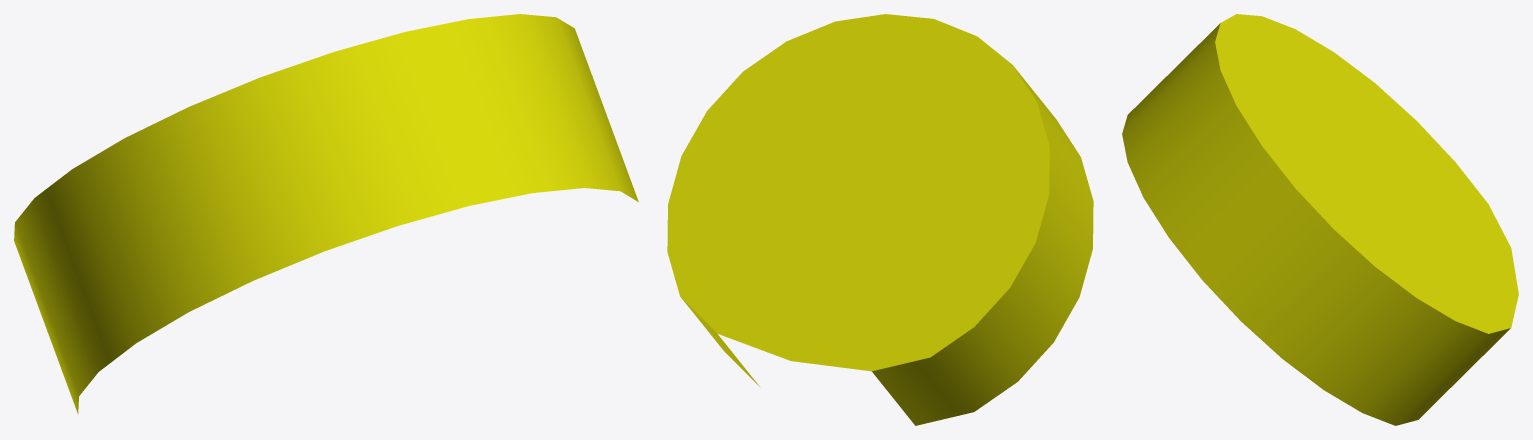
File: Cap1_109.glb
3 renders of one model, left to right at view 1: azimuth 30°, elevation 25°; view 2: azimuth 150°, elevation 25°; view 3: azimuth 270°, elevation 25°, orthographic. The views are drawn at different scales.
Size of the model in its own units: 16.86 by 14.47 by 15.4.
